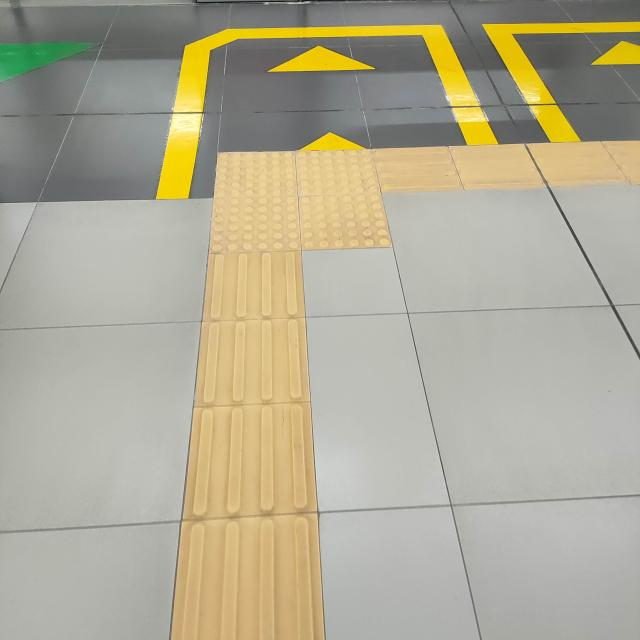kanan: (184, 111, 516, 288)
